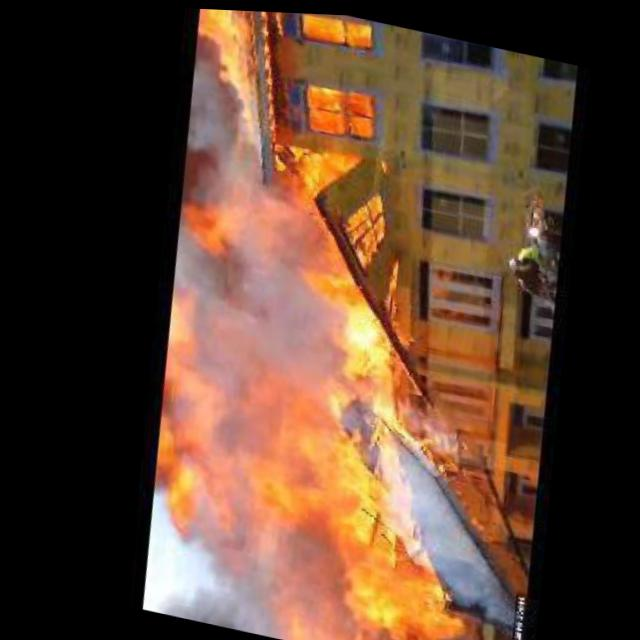Fire: (92, 3, 461, 640), (347, 429, 530, 620)
